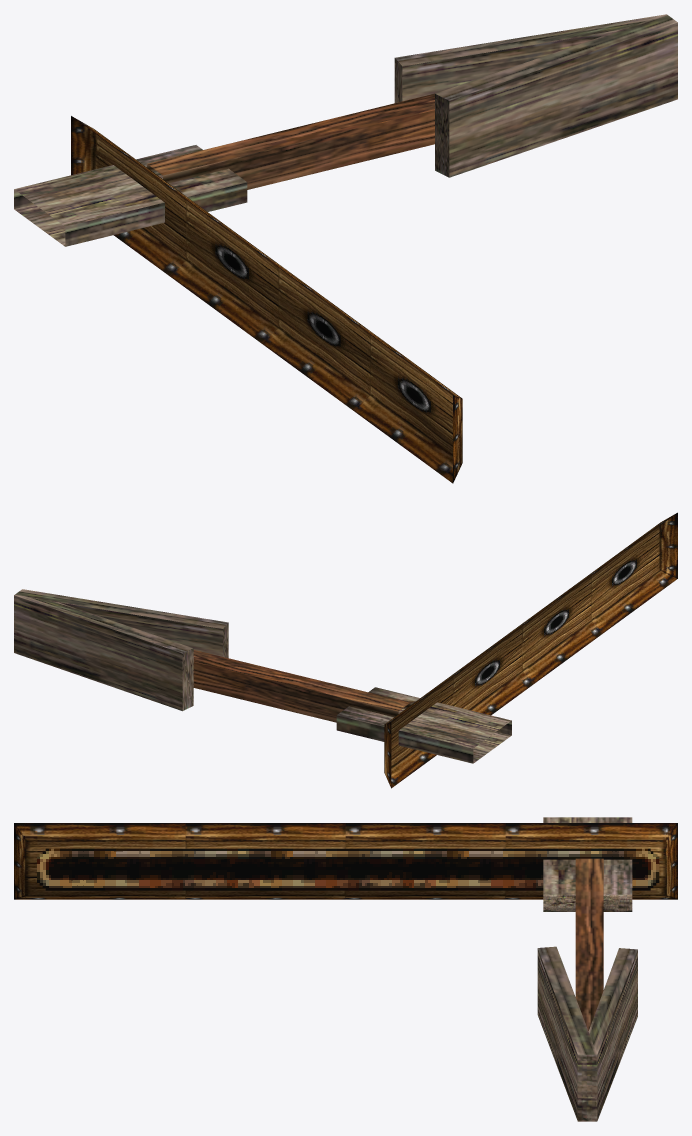
The model's file is INST_WH2_SLIDE_DAMAGE.fbx.
The picture shows the model from 3 angles, top to bottom: view 1: azimuth 30°, elevation 25°; view 2: azimuth 150°, elevation 25°; view 3: azimuth 270°, elevation 25°; orthographic projection. The views are drawn at different scales.
Visible parts, largest first — view 1: INST_WH2_SLIDE_DAMAGE; view 2: INST_WH2_SLIDE_DAMAGE; view 3: INST_WH2_SLIDE_DAMAGE.
Boxes of the visible parts, left/top/right/bottom form: INST_WH2_SLIDE_DAMAGE: left=14, top=14, right=677, bottom=483; INST_WH2_SLIDE_DAMAGE: left=14, top=512, right=677, bottom=788; INST_WH2_SLIDE_DAMAGE: left=14, top=817, right=677, bottom=1121.
Size of the model in its own units: 40490 by 5482 by 42372.
5 materials, 5 textured.
